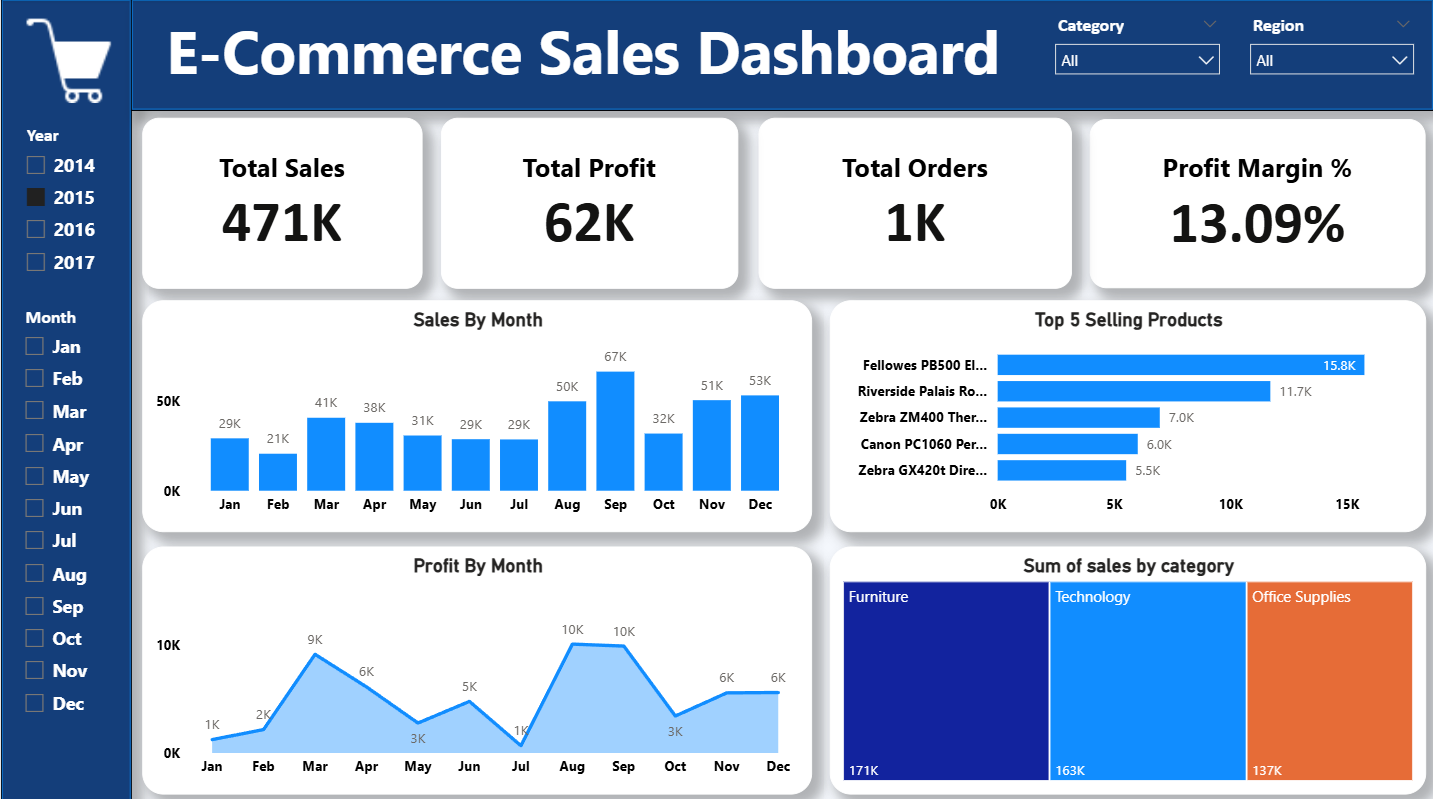

The dashboard page shown, as its layout file describes it:
{"tool":"powerbi","page":{"name":"Page 1","canvas":[1280,720],"ordinal":0},"visuals":[{"type":"shape","box":[0,0,117.1,720],"z":0},{"type":"image","box":[147.1,21.4,84.3,77.1],"z":1000},{"type":"shape","box":[115.7,0,1164.3,100],"z":2000},{"type":"slicer","fields":{"Values":["cleaned_dataset.Year"]},"box":[10,106.7,106.7,153.3],"z":3000},{"type":"textbox","box":[117.1,4.3,805.7,91.4],"z":4000},{"type":"slicer","fields":{"Values":["cleaned_dataset.Month"]},"box":[8.6,268.6,107.1,444.3],"z":5000},{"type":"slicer","fields":{"Values":["cleaned_dataset.category"]},"box":[931.4,8.6,167.9,90.7],"z":6000},{"type":"slicer","fields":{"Values":["cleaned_dataset.region"]},"box":[1105.7,8.6,166.4,90.7],"z":7000},{"type":"cardVisual","fields":{"Data":["cleaned_dataset.Total Sales"]},"box":[125.7,105.7,250,152.9],"z":8000},{"type":"cardVisual","fields":{"Data":["cleaned_dataset.Profit Margin %"]},"box":[972.9,107.1,300,151.4],"z":9000},{"type":"cardVisual","fields":{"Data":["cleaned_dataset.Total Orders"]},"box":[677.1,105.7,280,152.9],"z":10000},{"type":"cardVisual","fields":{"Data":["cleaned_dataset.Total Profit"]},"box":[392.9,105.7,265.7,152.9],"z":11000},{"type":"columnChart","title":"Sales By Month","fields":{"Y":["Sum(cleaned_dataset.sales)"],"Category":["cleaned_dataset.Month"]},"box":[125.7,268.6,598.6,207.1],"z":12000},{"type":"areaChart","title":"Profit By Month","fields":{"Category":["cleaned_dataset.Month"],"Y":["Sum(cleaned_dataset.profit)"]},"box":[125.7,488.6,598.6,221.4],"z":13000},{"type":"clusteredBarChart","title":"Top 5 Selling Products","fields":{"Category":["cleaned_dataset.product_name"],"Y":["Sum(cleaned_dataset.sales)"]},"box":[740,268.6,532.9,207.1],"z":14000},{"type":"treemap","fields":{"Group":["cleaned_dataset.category"],"Values":["Sum(cleaned_dataset.sales)"]},"box":[740,488.6,532.9,221.4],"z":15000},{"type":"image","box":[15.7,14.3,92.9,78.6],"z":16000}]}

Visuals, with their boxes in screenshot pixels (x1, y1, x2, y2), scaled from the page's 1280x720 canvas onto the 1433x799 screenshot:
shape: {"left": 0, "top": 0, "right": 131, "bottom": 798}
image: {"left": 165, "top": 24, "right": 259, "bottom": 109}
shape: {"left": 130, "top": 0, "right": 1432, "bottom": 111}
slicer - cleaned_dataset.Year: {"left": 11, "top": 118, "right": 131, "bottom": 289}
textbox: {"left": 131, "top": 5, "right": 1033, "bottom": 106}
slicer - cleaned_dataset.Month: {"left": 10, "top": 298, "right": 130, "bottom": 791}
slicer - cleaned_dataset.category: {"left": 1043, "top": 10, "right": 1231, "bottom": 110}
slicer - cleaned_dataset.region: {"left": 1238, "top": 10, "right": 1424, "bottom": 110}
cardVisual - cleaned_dataset.Total Sales: {"left": 141, "top": 117, "right": 421, "bottom": 287}
cardVisual - cleaned_dataset.Profit Margin %: {"left": 1089, "top": 119, "right": 1425, "bottom": 287}
cardVisual - cleaned_dataset.Total Orders: {"left": 758, "top": 117, "right": 1072, "bottom": 287}
cardVisual - cleaned_dataset.Total Profit: {"left": 440, "top": 117, "right": 737, "bottom": 287}
"Sales By Month" columnChart: {"left": 141, "top": 298, "right": 811, "bottom": 528}
"Profit By Month" areaChart: {"left": 141, "top": 542, "right": 811, "bottom": 788}
"Top 5 Selling Products" clusteredBarChart: {"left": 828, "top": 298, "right": 1425, "bottom": 528}
treemap - cleaned_dataset.category x Sum(cleaned_dataset.sales): {"left": 828, "top": 542, "right": 1425, "bottom": 788}
image: {"left": 18, "top": 16, "right": 122, "bottom": 103}
